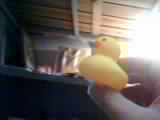duck: (68, 21, 132, 95)
